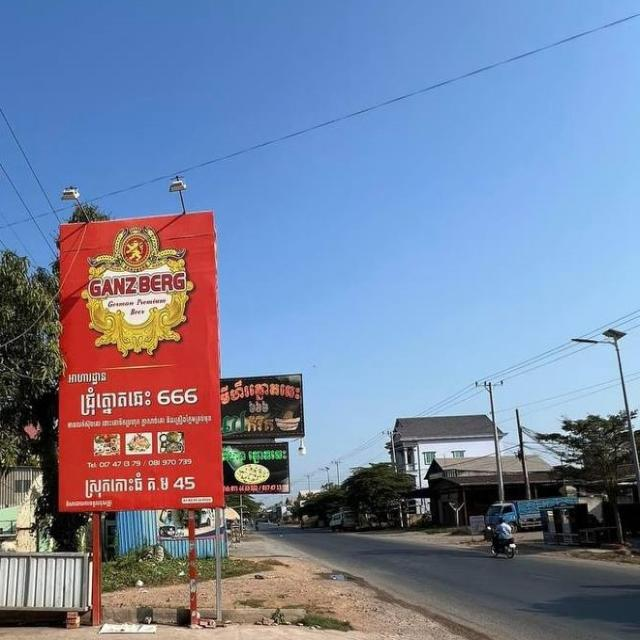20: (80, 471, 202, 499)
75: (78, 380, 199, 418)
Yolov11_80vkh: (68, 367, 111, 388)
